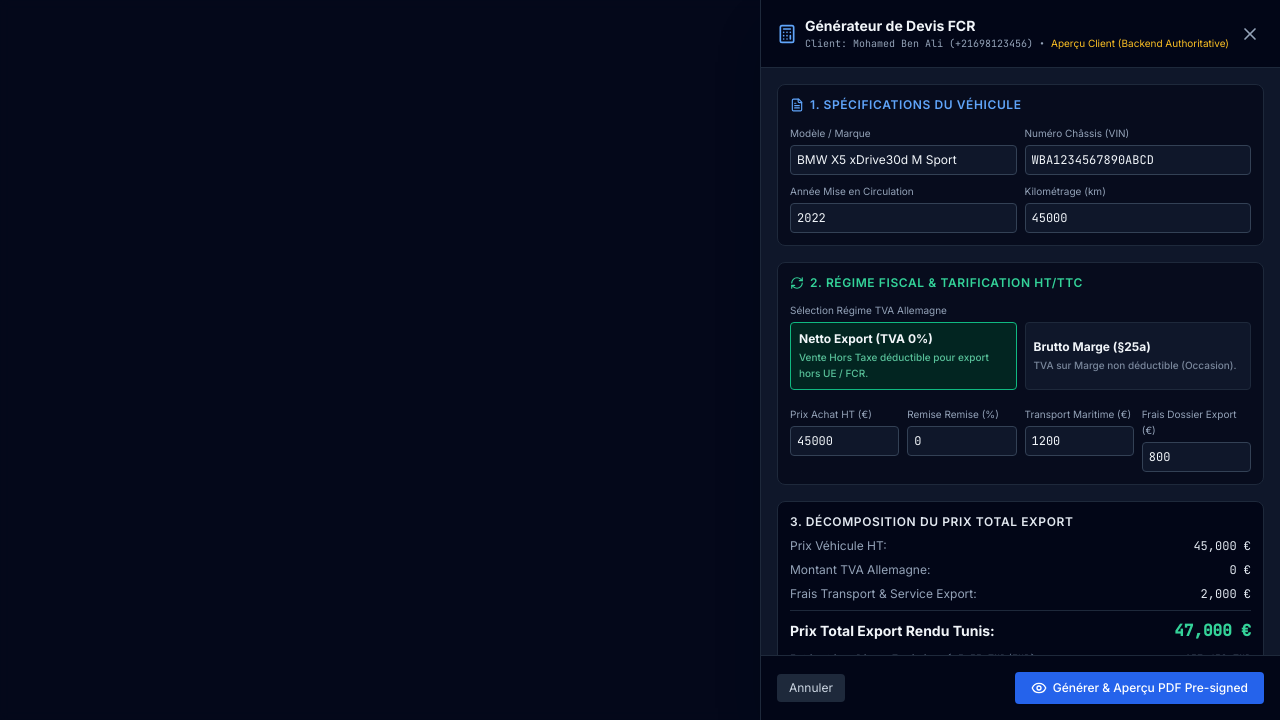
Test: FCR Quotation Builder UI & PDF Preview (BR-005, BR-006) › displays BR-015 Manager Approval Warning when discount exceeds 5%
This screenshot has width=1280, height=720.
Replace the text in the number field labelled "Remise Remise (%)" with "6" at (962, 441), box top-left (907, 426), bottom-right (1017, 456)
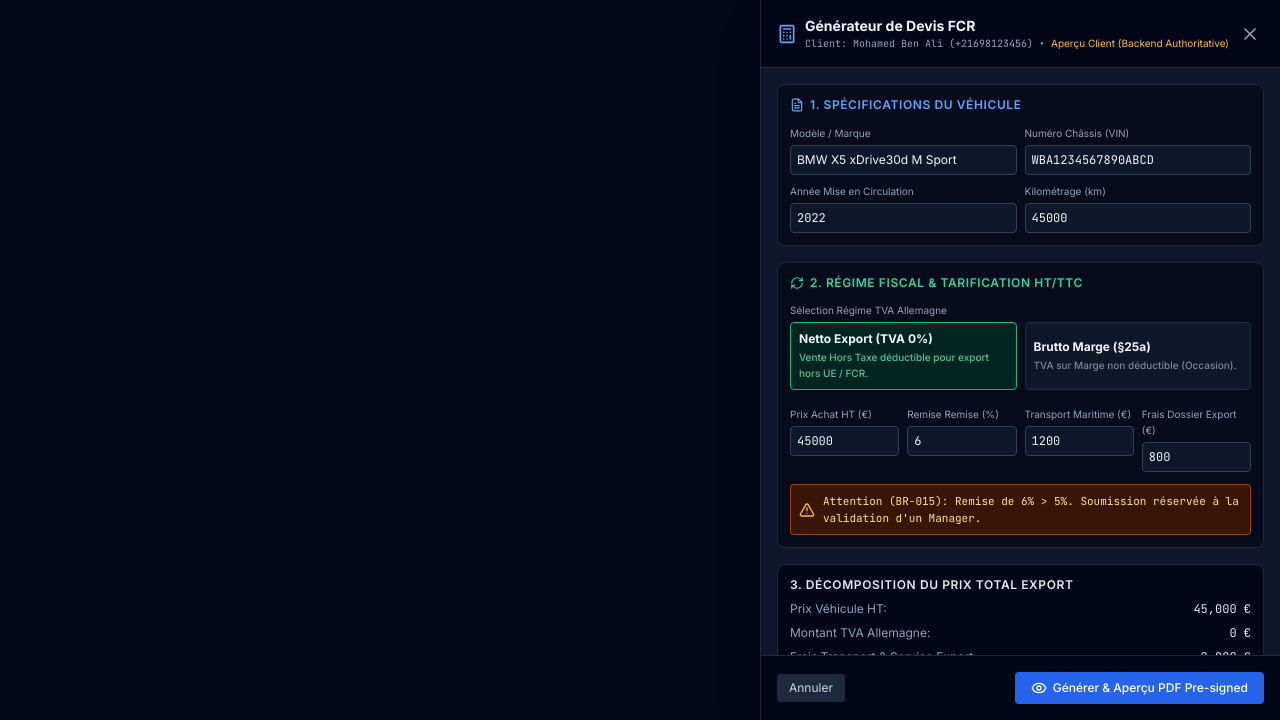
Now the text "BR-015" is shown, box top-left (823, 494), bottom-right (1021, 508)
Now the text "validation d'un Manager" is shown, box top-left (823, 494), bottom-right (1239, 524)
